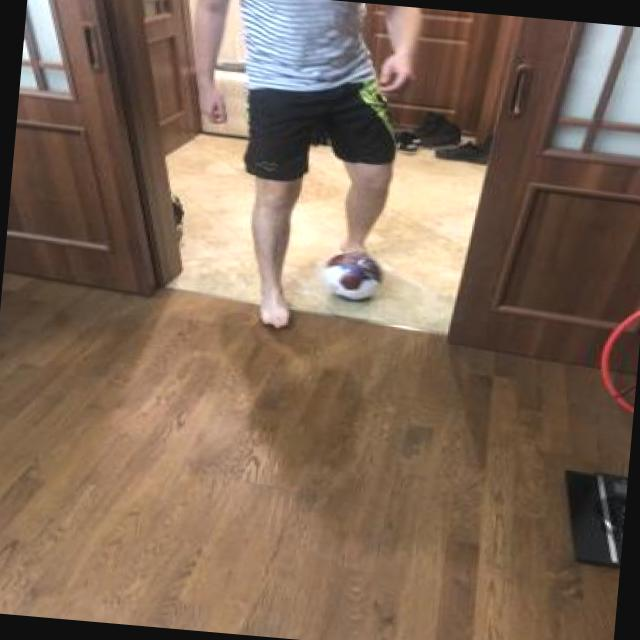Soccer Ball: (322, 245, 390, 300)
